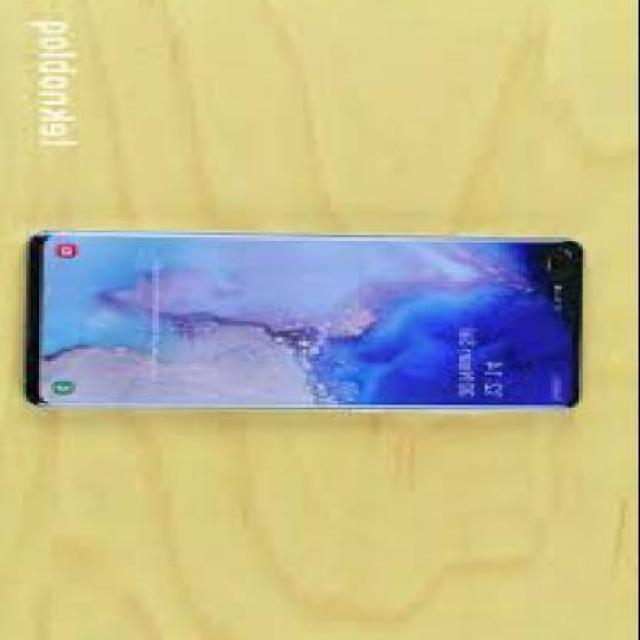mobile: (24, 228, 590, 409)
